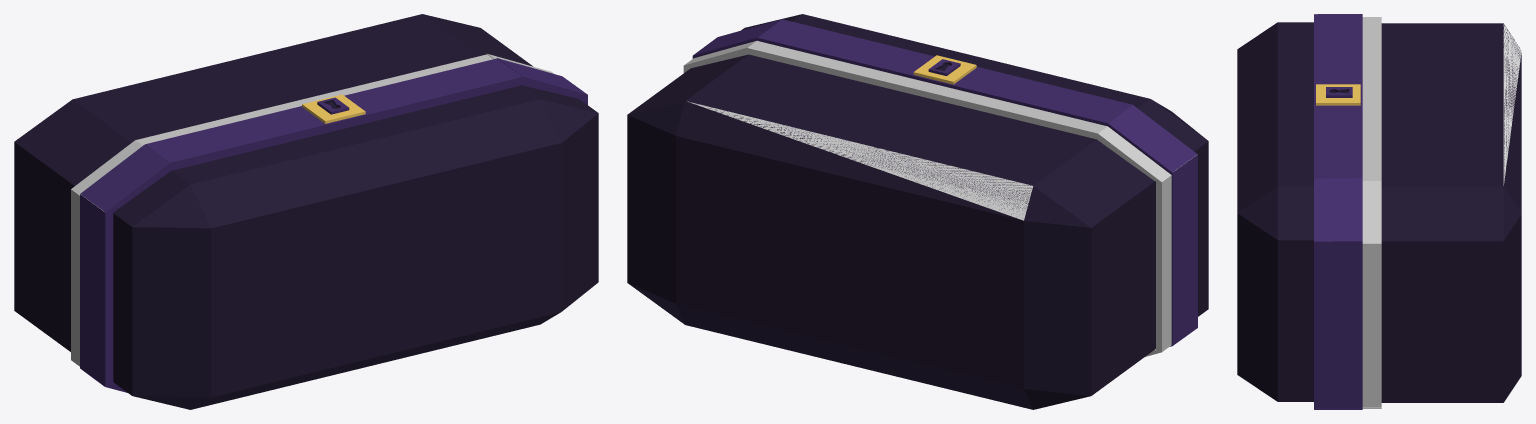
Rendered from bau_branco.gltf.
3 views of the same model, side by side, from view 1: azimuth 30°, elevation 25°; view 2: azimuth 150°, elevation 25°; view 3: azimuth 270°, elevation 25° (orthographic). The views are drawn at different scales.
Visible parts, largest first — view 1: tampa, caixote, faixa_frontal (×2), faixa_lateral (×2), faixa_diagonal (×3), suporte; view 2: caixote, faixa_frontal (×2), faixa_lateral (×2), tampa, faixa_diagonal (×4), suporte; view 3: caixote, tampa, faixa_lateral (×2), faixa_frontal (×2), faixa_diagonal (×2), suporte, buraco.
Boxes of the visible parts, left/top/right/bottom form: tampa: left=113, top=85, right=598, bottom=409; caixote: left=14, top=14, right=532, bottom=351; faixa_frontal (×2): left=135, top=54, right=522, bottom=170; faixa_lateral (×2): left=71, top=189, right=113, bottom=386; faixa_diagonal (×3): left=71, top=58, right=587, bottom=212; suporte: left=302, top=94, right=365, bottom=123; caixote: left=627, top=54, right=1155, bottom=409; faixa_frontal (×2): left=747, top=19, right=1132, bottom=139; faixa_lateral (×2): left=1156, top=154, right=1197, bottom=352; tampa: left=741, top=14, right=1208, bottom=316; faixa_diagonal (×4): left=684, top=19, right=1197, bottom=181; suporte: left=913, top=55, right=976, bottom=84; caixote: left=1381, top=23, right=1521, bottom=402; tampa: left=1237, top=22, right=1313, bottom=401; faixa_lateral (×2): left=1314, top=241, right=1381, bottom=408; faixa_frontal (×2): left=1314, top=14, right=1381, bottom=180; faixa_diagonal (×2): left=1314, top=178, right=1381, bottom=243; suporte: left=1316, top=84, right=1360, bottom=105; buraco: left=1326, top=87, right=1352, bottom=97.
Size of the model in its own units: 30.03 by 14.71 by 16.
